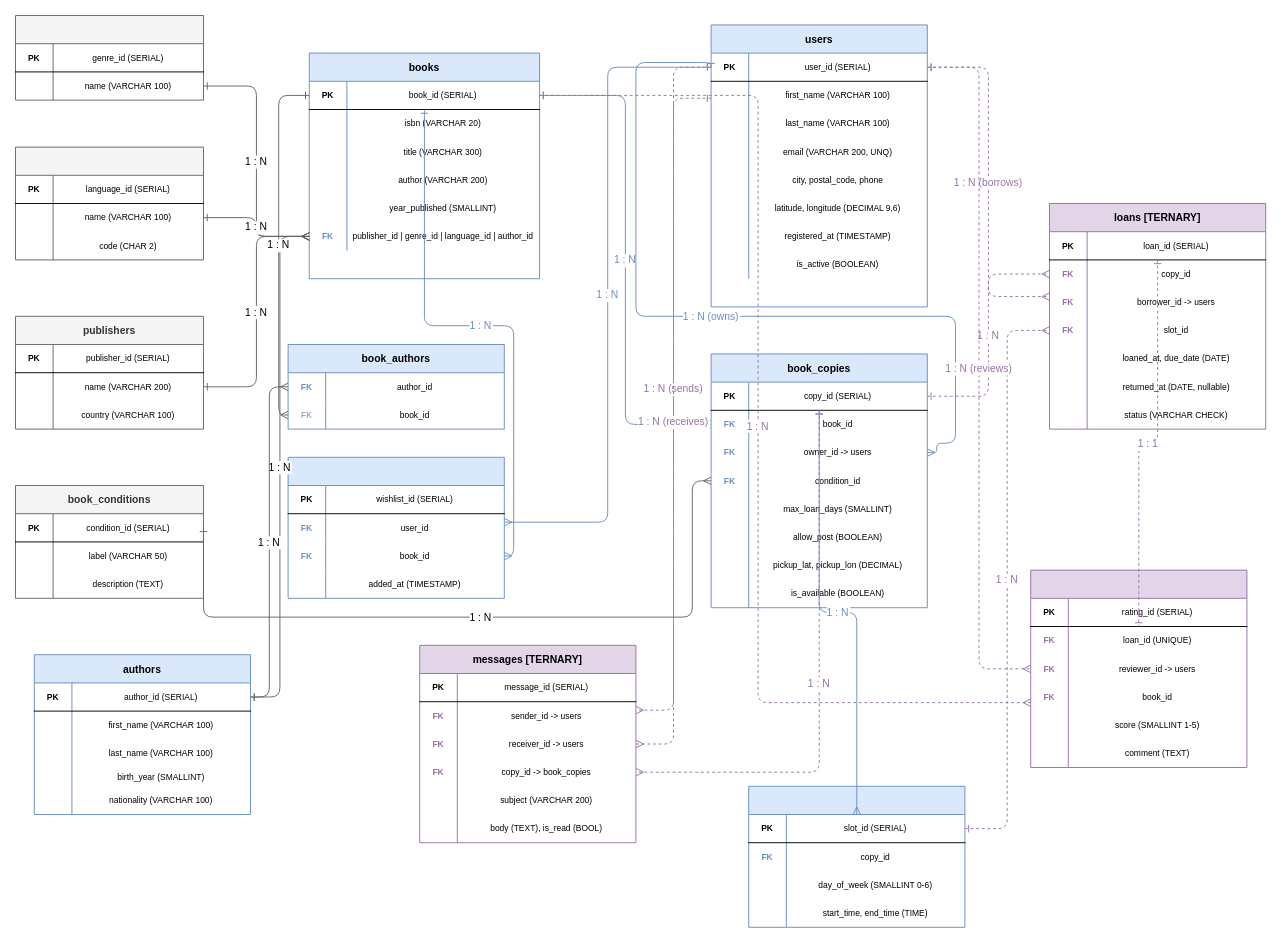
The diagram is 1281 pixels wide and 943 high, and some of its shapes have lost their labels. Each missing label, with the box of its shape:
genres: (15, 15, 204, 100)
languages: (15, 146, 204, 260)
ratings [TERNARY]: (1030, 569, 1247, 768)
time_slots: (748, 785, 965, 927)
wishlist [M:N bridge]: (287, 456, 504, 598)
